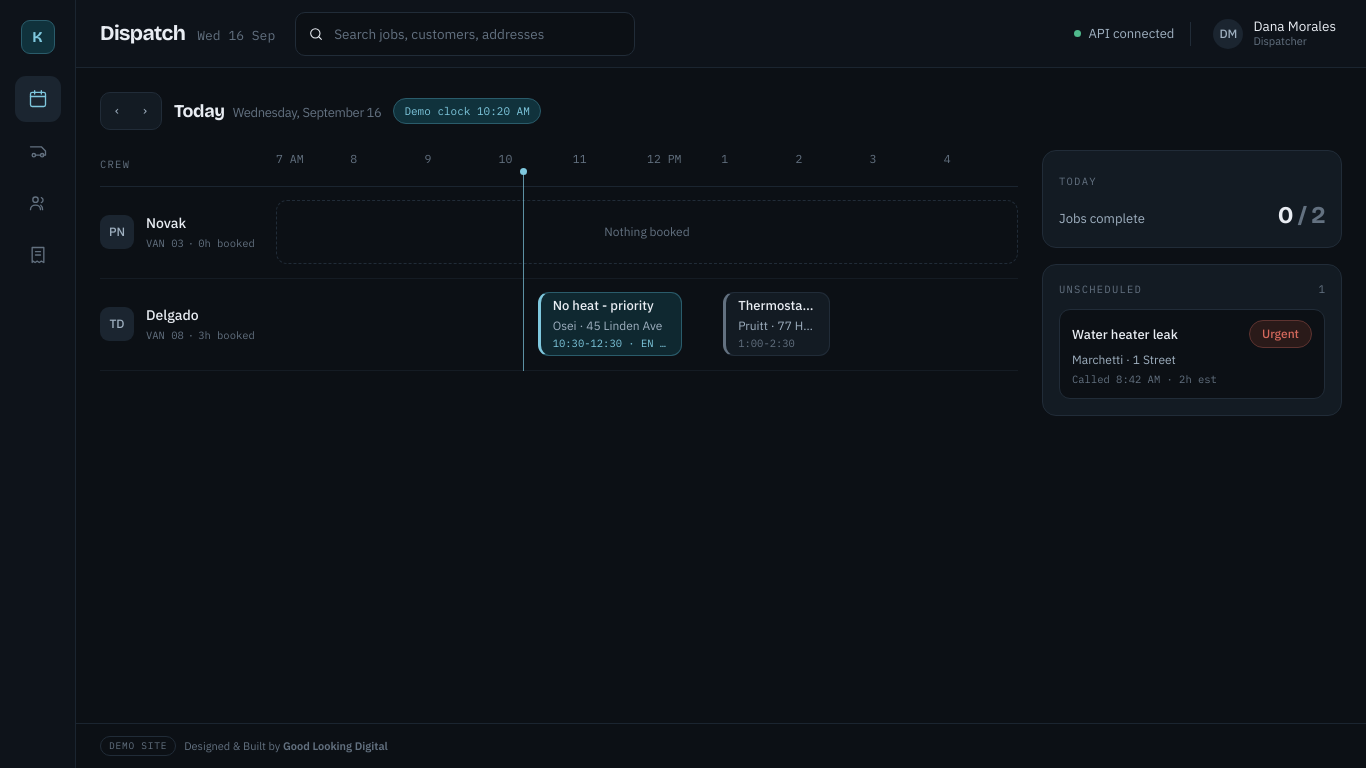
Test: the dispatch board › steps to the next day and back, keeping the day in the URL's query
Expected: the heading "Today" is shown, [174,97,381,125]
Click the button named "Next day". click: {"x": 145, "y": 111}
box: [133,97,157,124]
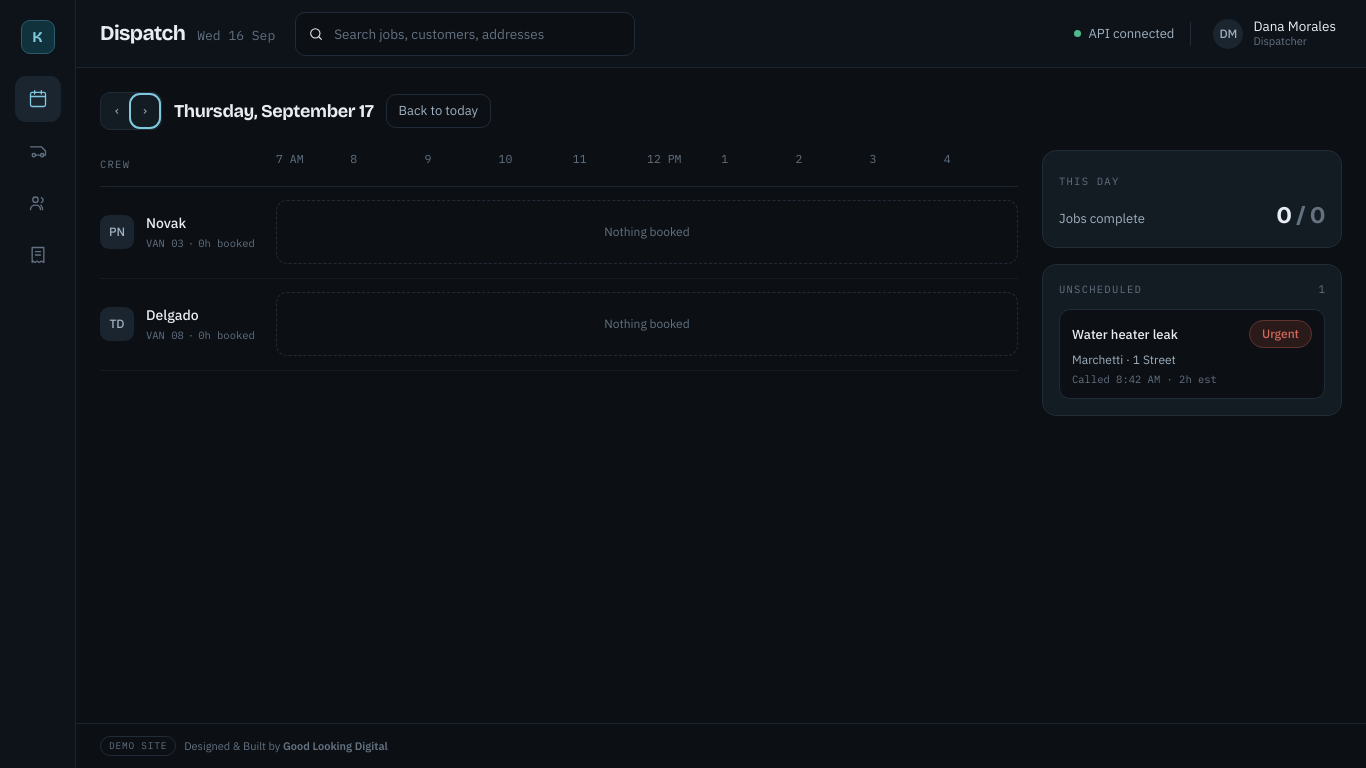
Result: the heading "Thursday, September 17" is shown at [174,97,374,125]
Click the button "Back to today". click: {"x": 438, "y": 111}
box: [386,94,491,128]
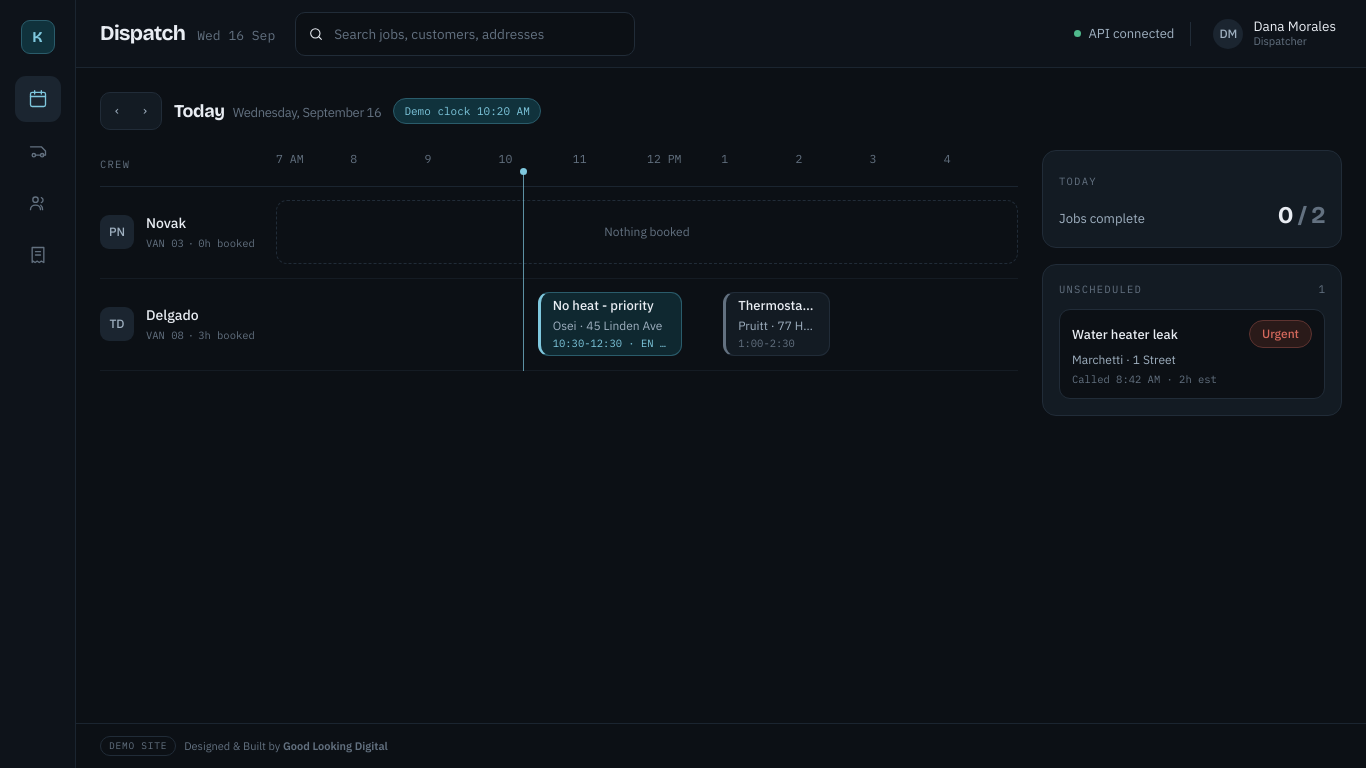
Result: the heading "Today" is shown at [174,97,381,125]
